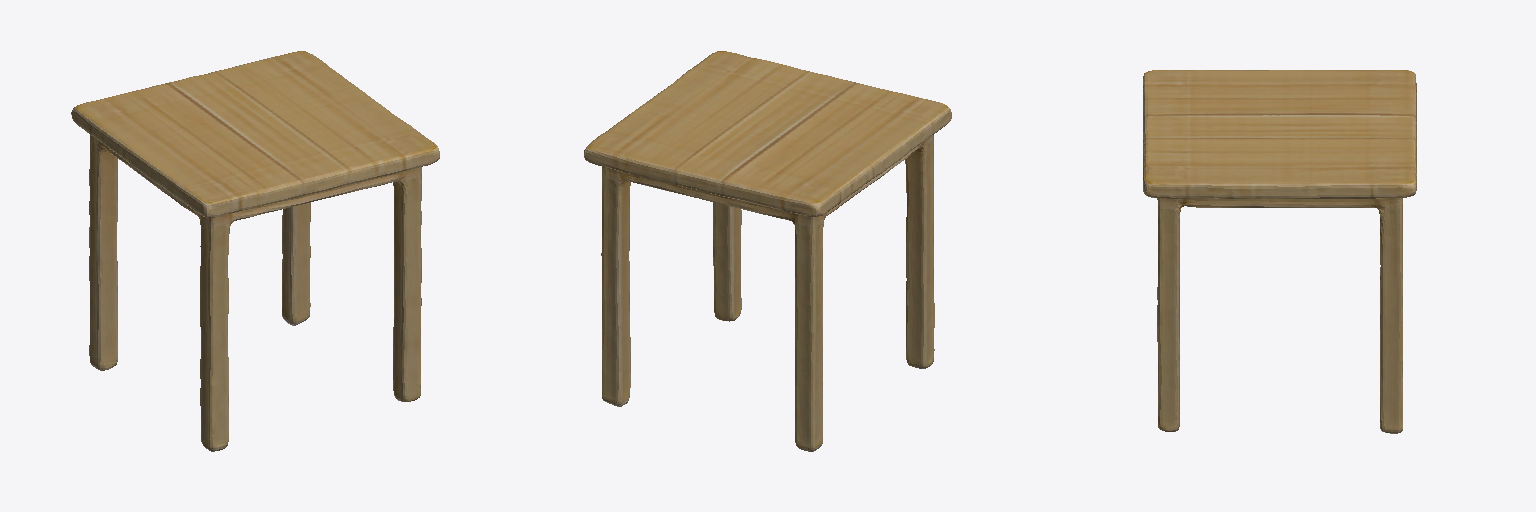
3 renders of one model, left to right at view 1: azimuth 30°, elevation 25°; view 2: azimuth 150°, elevation 25°; view 3: azimuth 270°, elevation 25°, orthographic.
Parts seen in each view (by area): view 1: mesh; view 2: mesh; view 3: mesh.
Boxes of the visible parts, x1,y1,x2,y2 form: mesh: [71, 51, 439, 451]; mesh: [584, 51, 951, 451]; mesh: [1143, 70, 1416, 433].
Bounding box in the file's own units: 0.9495 × 0.9971 × 0.9467.
1 materials, 1 textured.